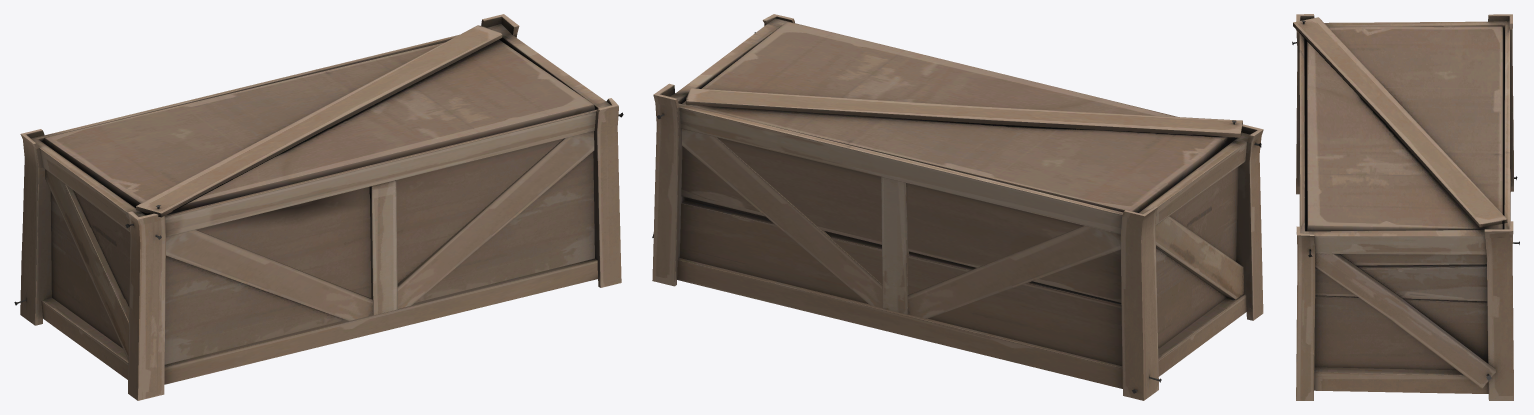
File: barrel_crate_03.glb
3 views of the same model, side by side, from view 1: azimuth 30°, elevation 25°; view 2: azimuth 150°, elevation 25°; view 3: azimuth 270°, elevation 25° (orthographic). The views are drawn at different scales.
Visible parts, largest first — view 1: barrel_crate_03; view 2: barrel_crate_03; view 3: barrel_crate_03.
Part boxes in pixels (x1,y1,x2,y2): barrel_crate_03: (14, 14, 623, 400); barrel_crate_03: (652, 14, 1263, 400); barrel_crate_03: (1292, 14, 1519, 400).
Bounding box in the file's own units: 3.5 × 1.23 × 1.47.
Materials: 1 (1 with a texture image).
